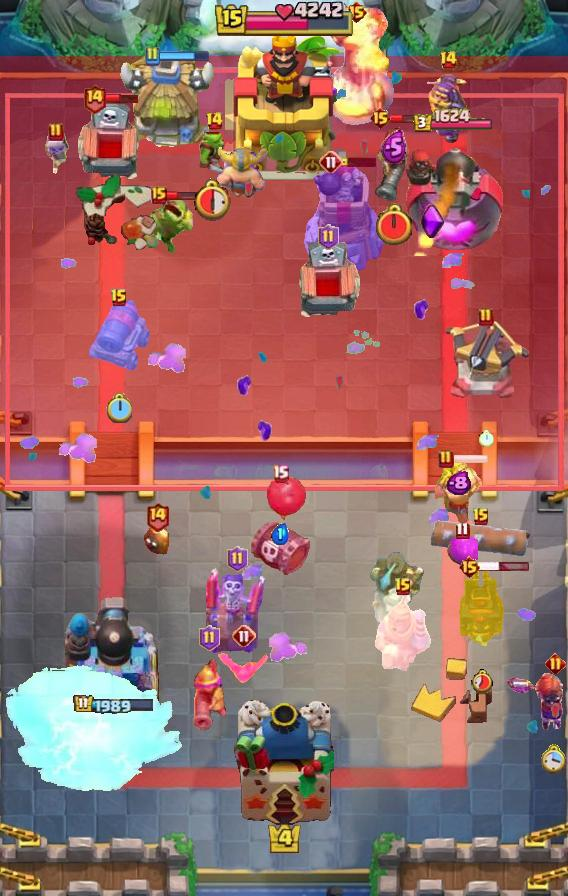archer-evolution: (457, 564, 507, 646)
barbarian: (218, 648, 270, 686)
bomb-tower: (373, 117, 415, 205), (189, 655, 229, 731)
bomber: (143, 522, 171, 556)
clock: (213, 0, 355, 40)
electro-dragon: (317, 0, 395, 128)
electro-spirit: (381, 130, 407, 164), (446, 472, 470, 497), (271, 523, 289, 545)
elixir: (194, 177, 235, 221), (374, 203, 414, 247), (540, 742, 567, 773), (106, 393, 132, 423), (471, 669, 494, 693), (479, 429, 493, 446)
elixir-golem-mid: (75, 102, 145, 188), (293, 240, 363, 326)
emote: (158, 50, 210, 62), (478, 560, 530, 571), (452, 453, 489, 465), (104, 92, 140, 104), (165, 190, 200, 202), (390, 112, 426, 123), (340, 157, 376, 167)
firecracker-evolution: (427, 74, 469, 144)
flying-machine: (138, 196, 198, 254)
goblin: (41, 130, 71, 176)
goblin-giant: (213, 147, 269, 201)
goblin-hut: (435, 456, 481, 527)
inferno-dragon: (368, 546, 426, 622)
king-tower: (222, 31, 346, 181), (234, 700, 334, 826)
lava-pup: (442, 320, 530, 402)
mega-knight: (1, 662, 185, 798)
miner: (446, 536, 478, 566)
minion: (431, 520, 531, 556)
prince: (115, 56, 217, 152)
ram-rider: (372, 592, 434, 674)
royal-giant-evolution: (87, 296, 151, 374)
royal-recruit-evolution: (247, 475, 313, 579)
selected: (412, 108, 494, 134), (73, 694, 155, 716)
skeleton-king-bar: (206, 564, 268, 654)
skeleton-king-skill: (419, 203, 445, 239)
tesla-evolution: (506, 669, 568, 731)
text: (146, 501, 170, 532), (82, 83, 106, 113), (319, 150, 343, 174), (232, 624, 256, 648), (345, 0, 368, 24), (368, 106, 391, 130), (459, 555, 482, 579), (318, 224, 339, 250), (227, 546, 248, 572), (199, 625, 220, 651), (545, 653, 566, 674), (438, 50, 457, 70), (205, 111, 224, 131), (110, 288, 128, 308), (472, 507, 490, 527), (394, 577, 412, 597), (144, 46, 160, 66), (48, 122, 64, 142), (478, 307, 494, 327), (438, 449, 454, 469), (272, 465, 289, 483), (151, 186, 167, 204), (454, 521, 469, 539)
tower-bar: (65, 593, 163, 731), (404, 138, 505, 256)
zap: (195, 128, 233, 174)
zappy: (301, 158, 385, 280)
